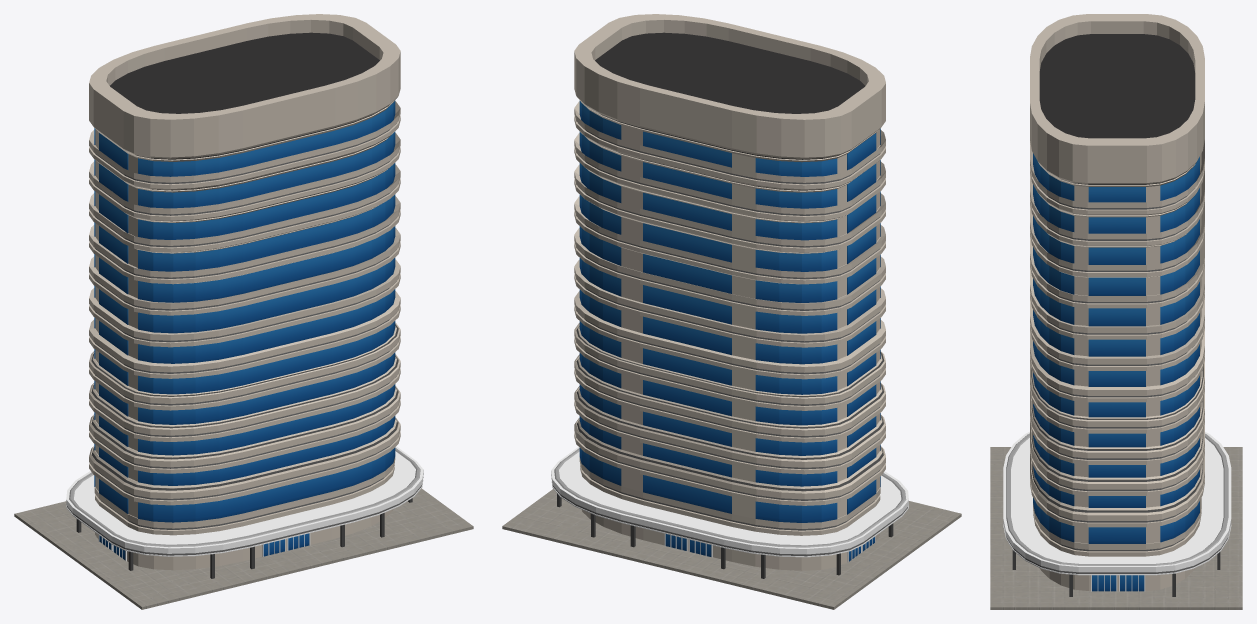
Rendered from Skyscraper_03.fbx.
3 views of the same model, side by side, from view 1: azimuth 30°, elevation 25°; view 2: azimuth 150°, elevation 25°; view 3: azimuth 270°, elevation 25° (orthographic).
Visible parts, largest first — view 1: Skyscraper_03; view 2: Skyscraper_03; view 3: Skyscraper_03.
Part boxes in pixels (x1=…): Skyscraper_03: x1=14, y1=14, x2=473, y2=609; Skyscraper_03: x1=502, y1=14, x2=961, y2=609; Skyscraper_03: x1=990, y1=14, x2=1242, y2=609.
Bounding box in the file's own units: 6300 × 8270 × 4200.
